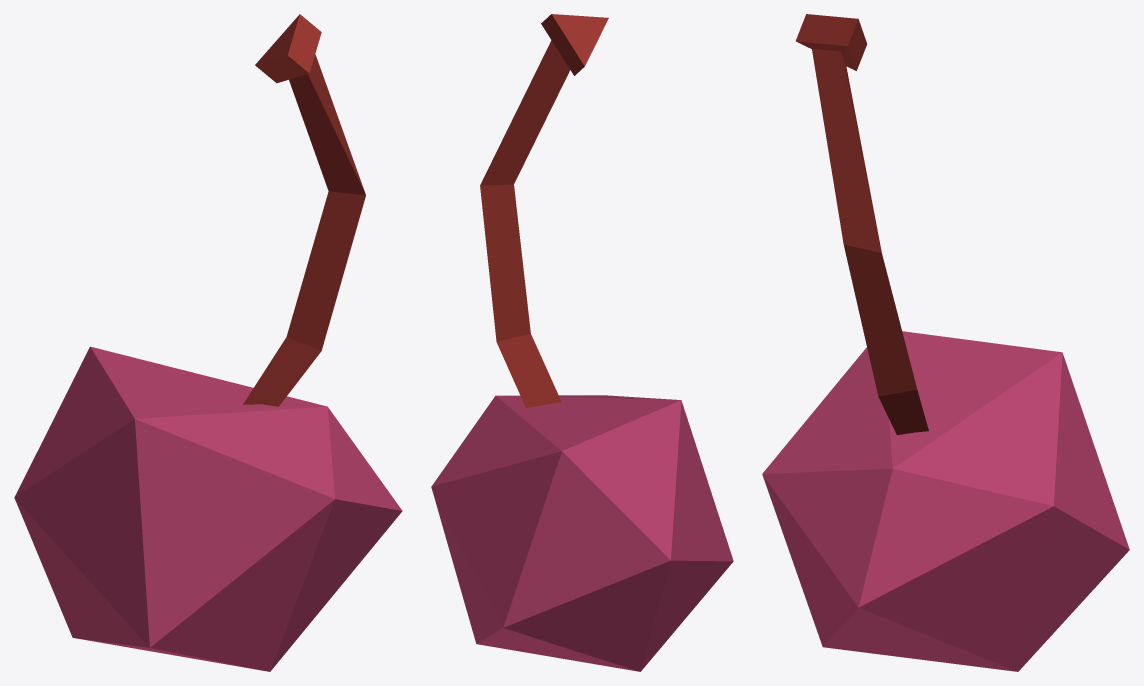
Rendered from Cherry.fbx.
The picture shows the model from 3 angles, left to right: view 1: azimuth 30°, elevation 25°; view 2: azimuth 150°, elevation 25°; view 3: azimuth 270°, elevation 25°; orthographic projection. The views are drawn at different scales.
Parts seen in each view (by area): view 1: Cherry; view 2: Cherry; view 3: Cherry.
Boxes of the visible parts, box(x1,y1,x2,y2) form: Cherry: box(14, 14, 402, 671); Cherry: box(431, 14, 733, 671); Cherry: box(762, 14, 1129, 671).
Bounding box in the file's own units: 50.14 × 97.68 × 49.92.
